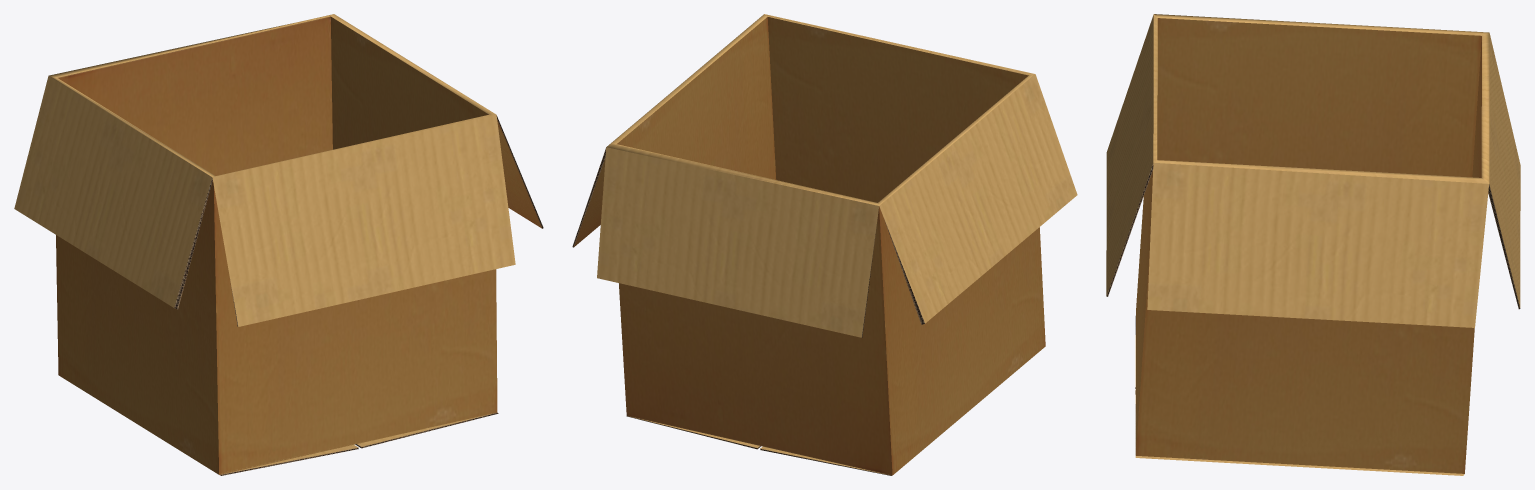
File: 316a0888-bed2-4dae-813b-9e4224eabf01.glb
The picture shows the model from 3 angles, left to right: view 1: azimuth 30°, elevation 25°; view 2: azimuth 150°, elevation 25°; view 3: azimuth 270°, elevation 25°; orthographic projection. The views are drawn at different scales.
Visible parts, largest first — view 1: Object_3, Object_4, Object_2, Object_5; view 2: Object_3, Object_4, Object_5, Object_2; view 3: Object_3, Object_4, Object_5, Object_2.
Part boxes in pixels (left/top/right/bottom): Object_3: left=56, top=16, right=541, bottom=474; Object_4: left=14, top=14, right=515, bottom=473; Object_2: left=174, top=115, right=543, bottom=475; Object_5: left=49, top=76, right=495, bottom=473; Object_3: left=573, top=17, right=1045, bottom=475; Object_4: left=597, top=14, right=1077, bottom=474; Object_5: left=764, top=14, right=1035, bottom=205; Object_2: left=572, top=147, right=924, bottom=475; Object_3: left=1135, top=18, right=1481, bottom=473; Object_4: left=1106, top=15, right=1520, bottom=403; Object_5: left=1135, top=14, right=1488, bottom=475; Object_2: left=1106, top=164, right=1520, bottom=394.
Bounding box in the file's own units: 2.67 × 2.18 × 2.52.
Materials: 4 (4 with a texture image).
